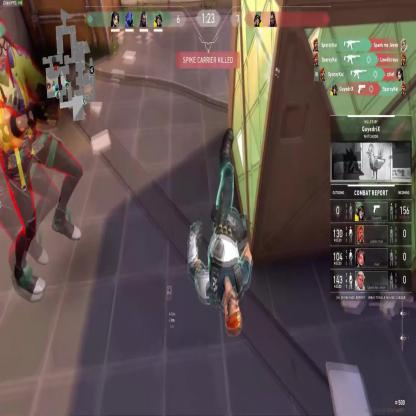enemy: (0, 17, 84, 300)
enemy_head: (0, 21, 10, 74)
